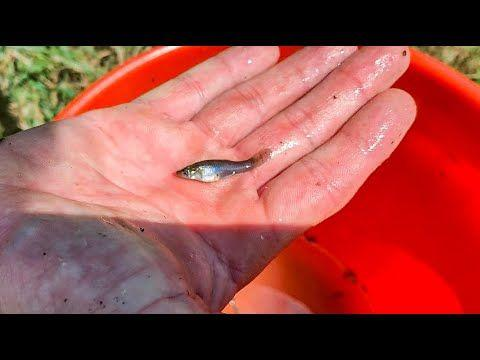Mosquito Fish: (173, 149, 271, 192)
